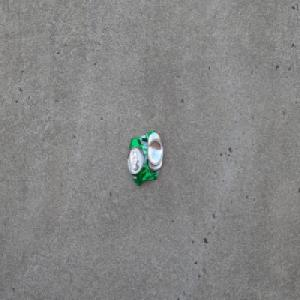SodaCan: (127, 128, 164, 187)
